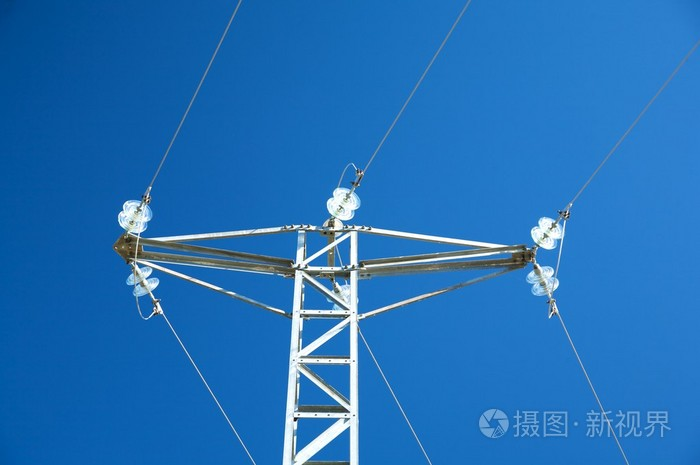insulator: (115, 201, 152, 237), (526, 263, 562, 299), (531, 214, 565, 251), (326, 188, 362, 221), (126, 265, 160, 296)
